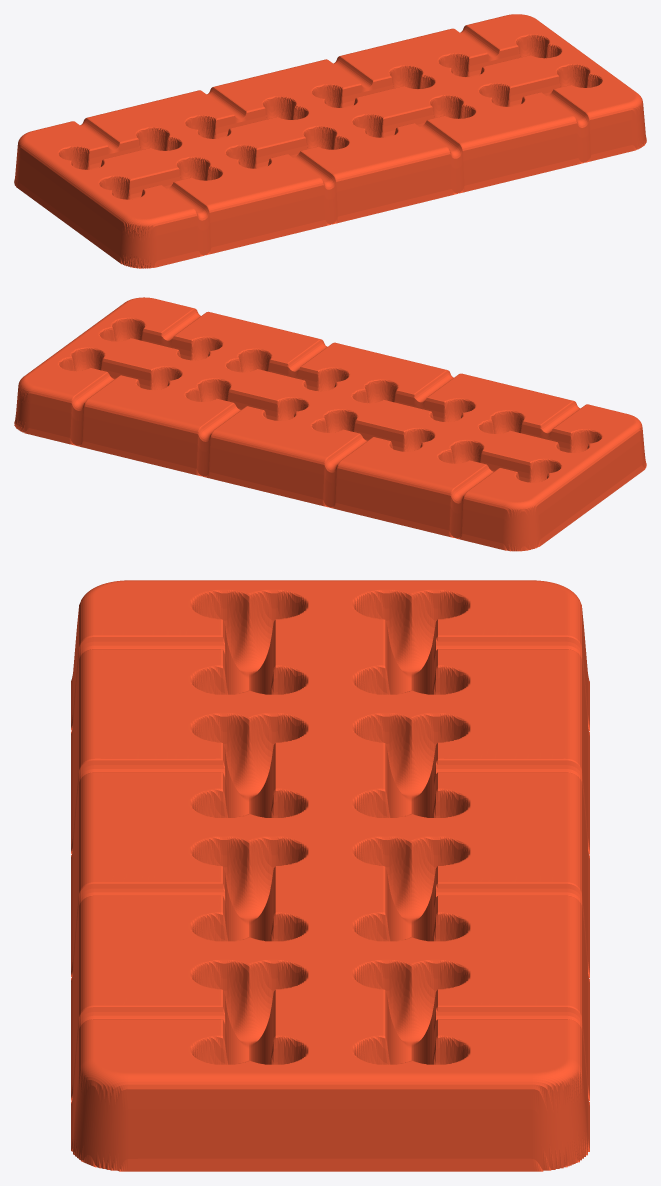
Rendered from mold.glb.
3 views of the same model, one above another, from view 1: azimuth 30°, elevation 25°; view 2: azimuth 150°, elevation 25°; view 3: azimuth 270°, elevation 25° (orthographic). The views are drawn at different scales.
Parts seen in each view (by area): view 1: geometry_0; view 2: geometry_0; view 3: geometry_0.
Boxes of the visible parts, x1,y1,x2,y2 form: geometry_0: (14,14,646,268); geometry_0: (14,297,646,551); geometry_0: (71,580,589,1171).
Size of the model in its own units: 0.1907 by 0.0155 by 0.0819.
